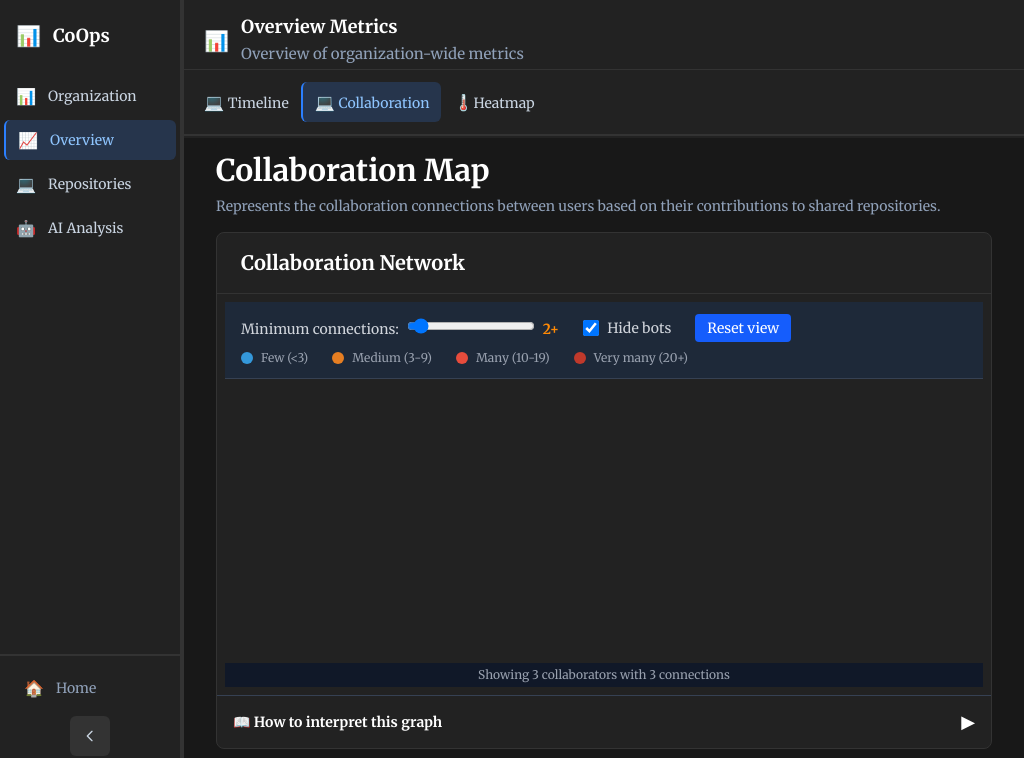
Scenario: CollaborationPage Component › Interatividade - Dropdown de Explicação › mostra seta correta quando aberto
Click the button "📖 How to interpret this graph ▶": (338, 722) [217,696,991,748]
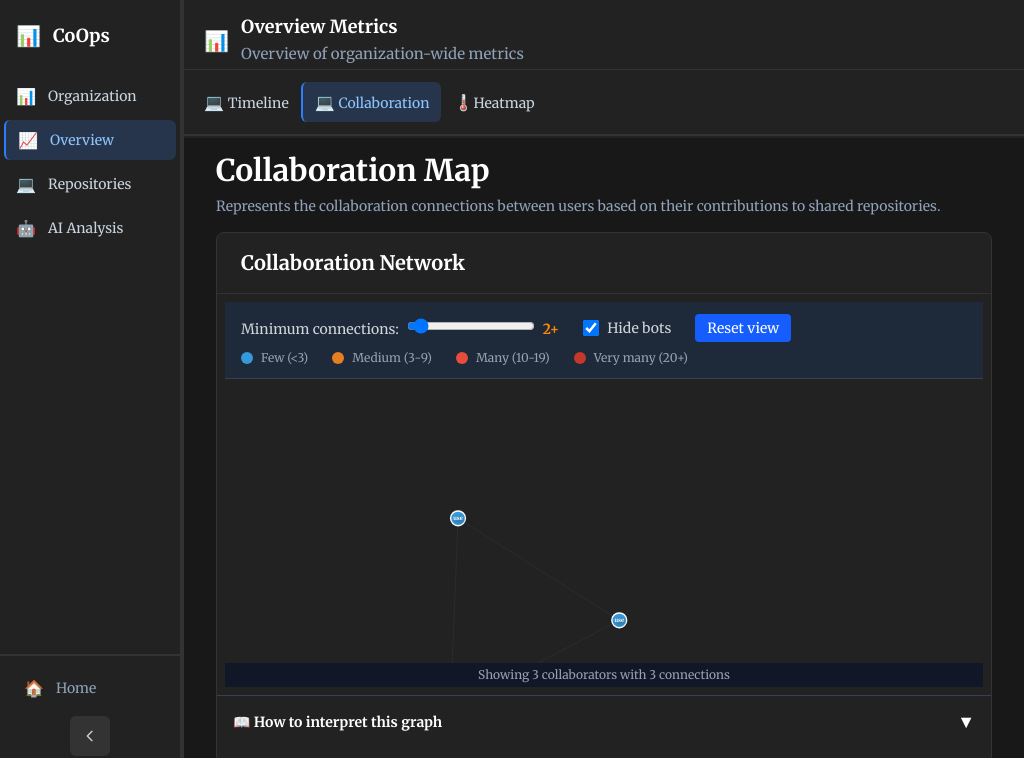
Result: the button "📖 How to interpret this graph ▼" is shown at [217,696,991,748]
